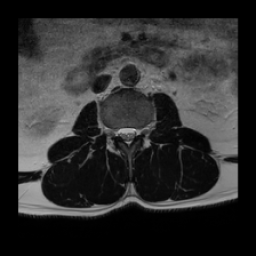CCS_normal: (124, 120, 130, 150)
LFS_normal: (137, 120, 144, 141)
LLS_normal: (130, 120, 137, 145)
RFS_normal: (110, 120, 117, 142)
RLS_normal: (117, 121, 124, 144)
